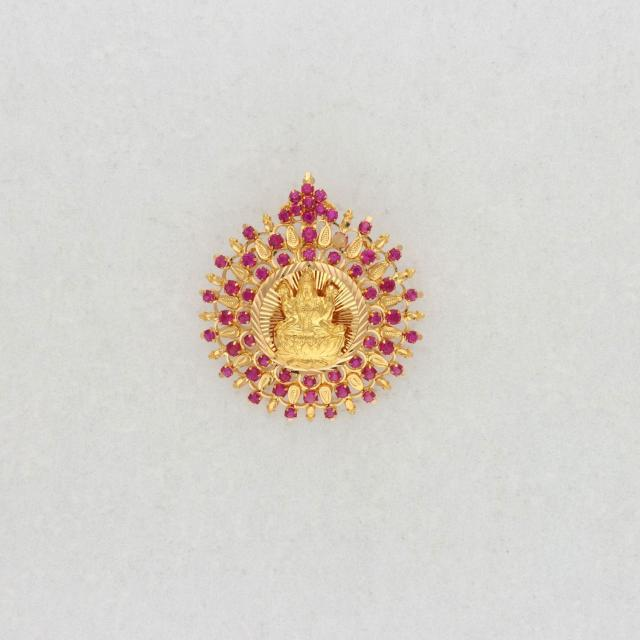missing gem: (332, 233, 347, 248)
